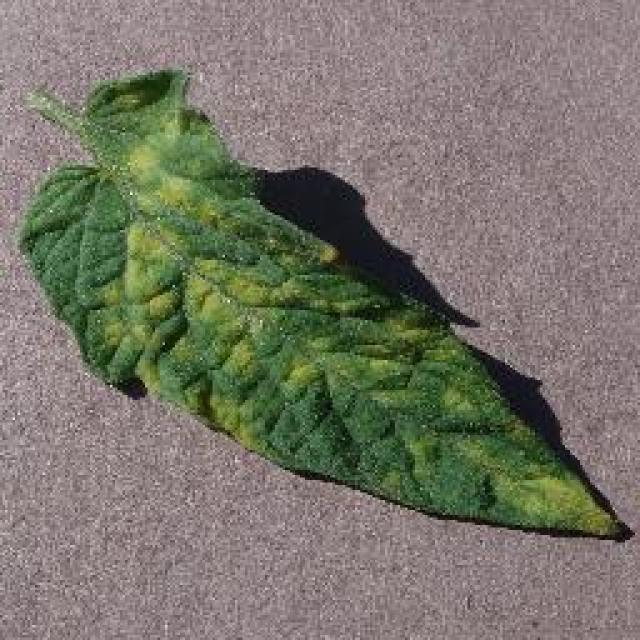Tomato___Leaf_Mold: (20, 70, 622, 535)
